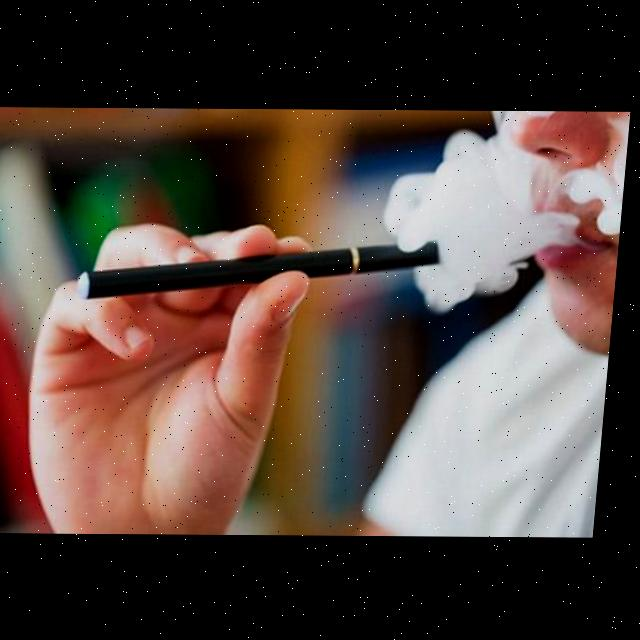vape: (83, 236, 447, 303)
